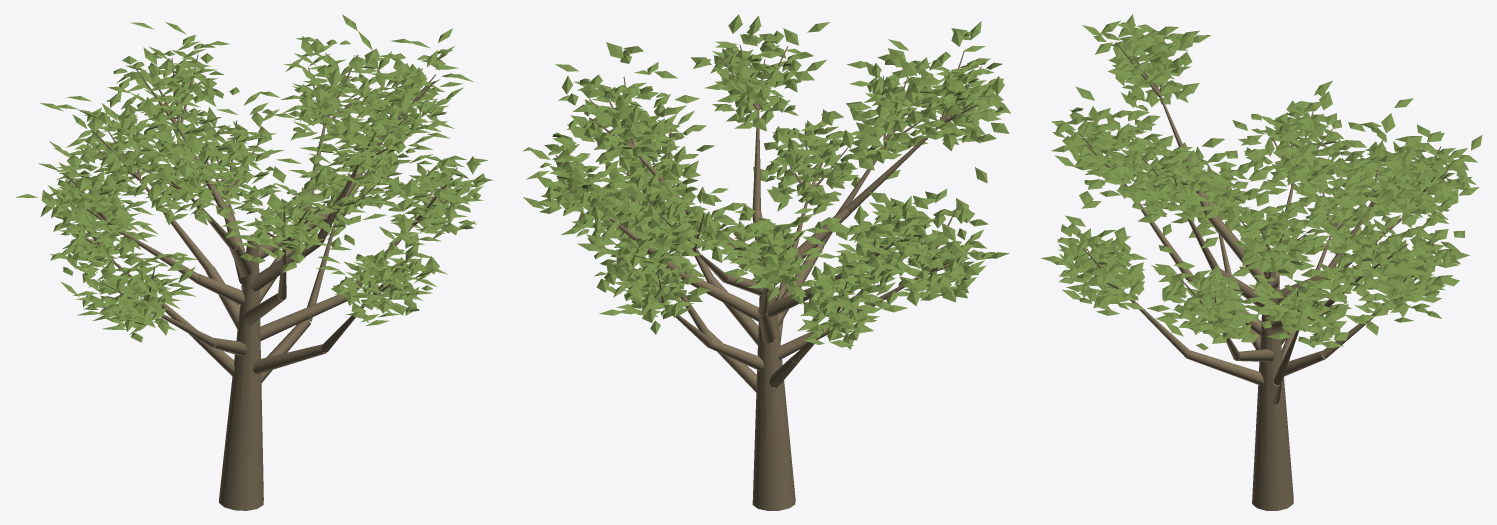
The model's file is oak_21.glb.
3 renders of one model, left to right at view 1: azimuth 30°, elevation 25°; view 2: azimuth 150°, elevation 25°; view 3: azimuth 270°, elevation 25°, orthographic. The views are drawn at different scales.
Visible parts, largest first — view 1: oak_21; view 2: oak_21; view 3: oak_21.
Boxes of the visible parts, x1,y1,x2,y2 form: oak_21: (15, 14, 493, 510); oak_21: (523, 14, 1010, 510); oak_21: (1041, 14, 1482, 510).
Bounding box in the file's own units: 4.26 × 4.41 × 4.11.
